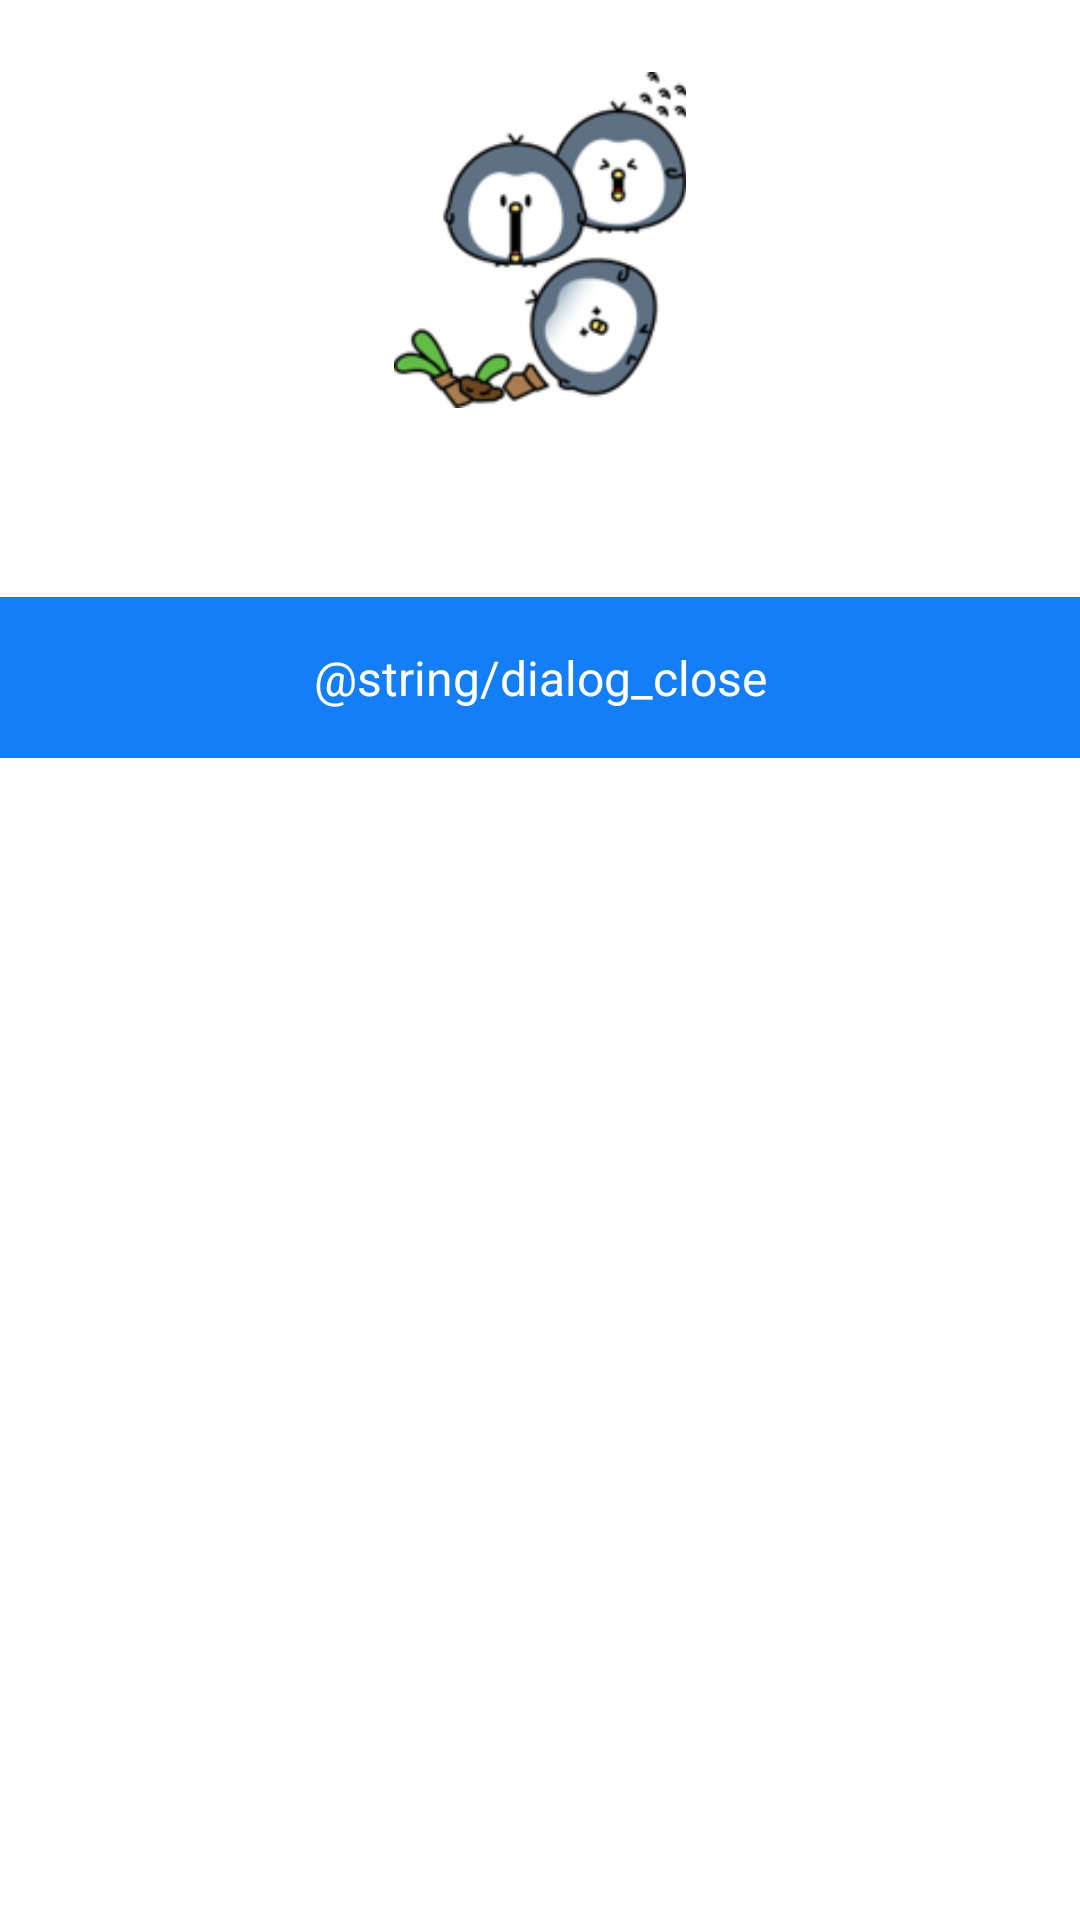

Named icons in this screenshot (1080px x 1920px) and their bounding boxes, rect(x1, y1, x2, y2):
exception: rect(394, 72, 686, 408)
